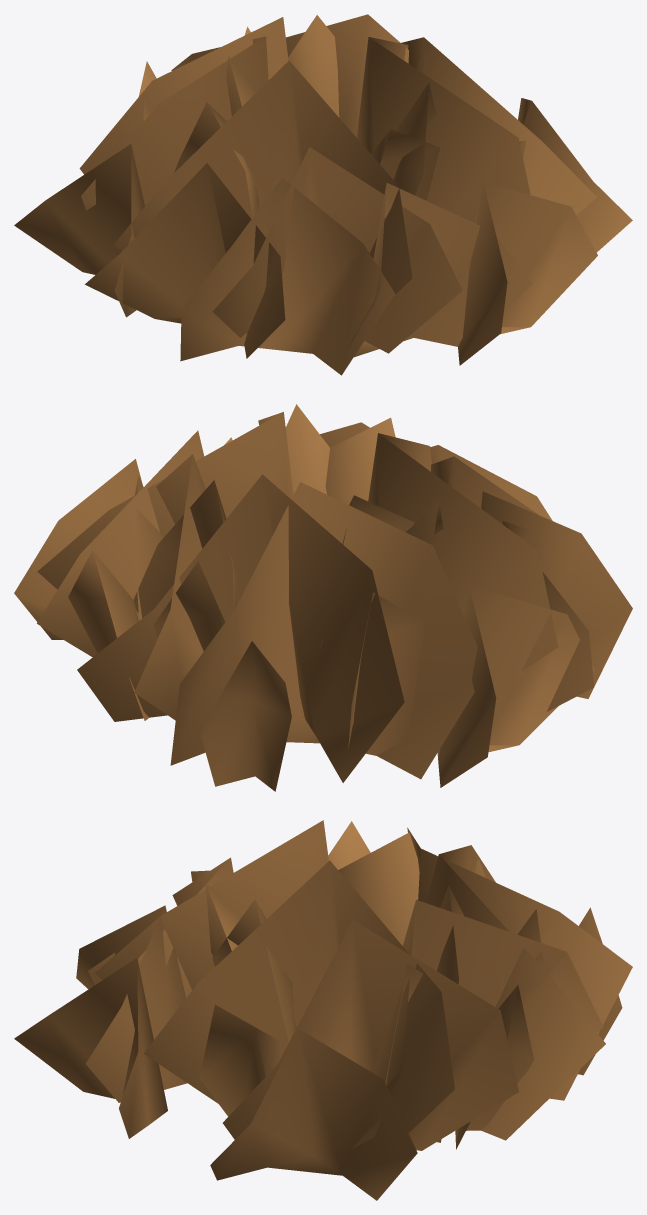
File: Grass_2.glb
The picture shows the model from 3 angles, top to bottom: view 1: azimuth 30°, elevation 25°; view 2: azimuth 150°, elevation 25°; view 3: azimuth 270°, elevation 25°; orthographic projection. The views are drawn at different scales.
Visible parts, largest first — view 1: Grass_2; view 2: Grass_2; view 3: Grass_2.
Part boxes in pixels (<box>): Grass_2: <box>14,14,632,375</box>; Grass_2: <box>14,404,632,791</box>; Grass_2: <box>14,820,632,1200</box>.
Size of the model in its own units: 0.85 by 0.3914 by 0.8946.
